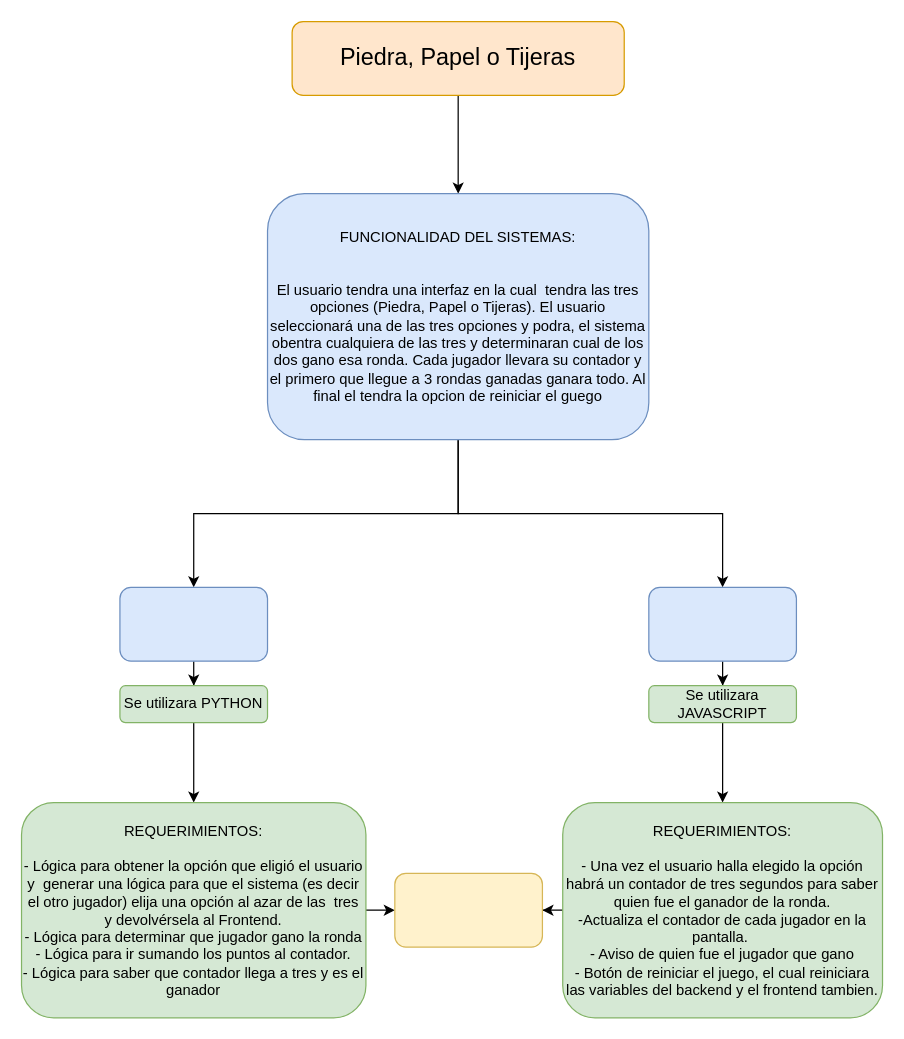
Image size: 904x1039. Some labels were removed from this diagram. The centre of each missing label's shape, as x and y in pixels:
"BACKEND" belongs at (193,623).
"FRONTEND" belongs at (722,623).
"SE COMUNICARAN MEDIANTE API REST" belongs at (468,909).
